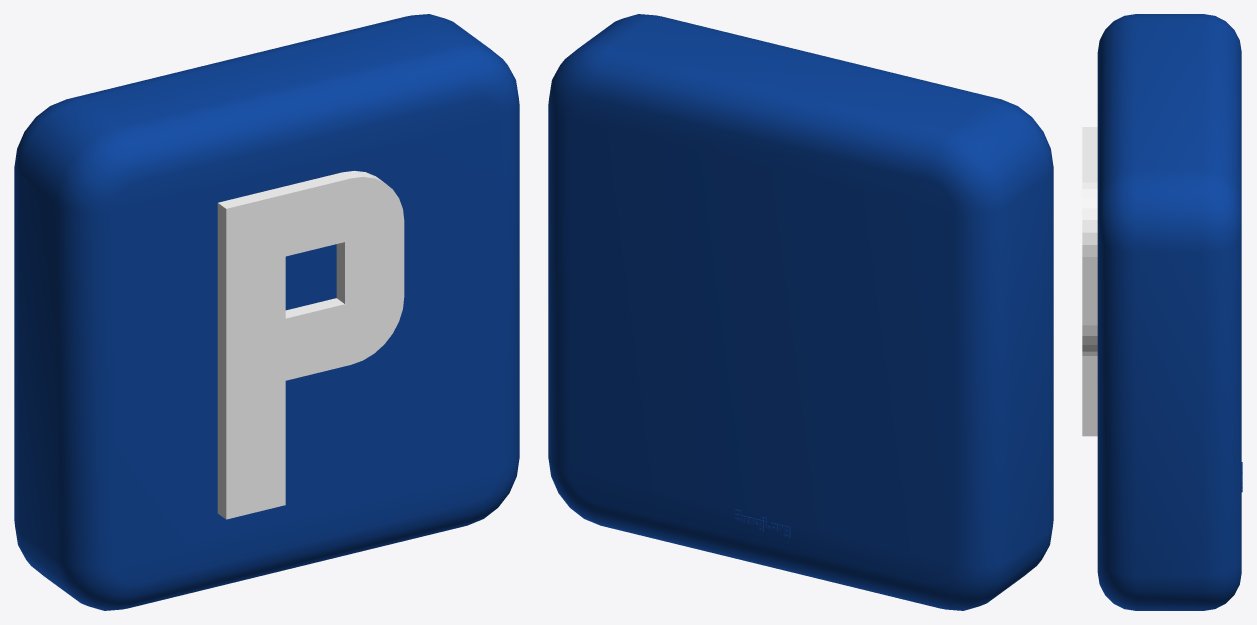
File: p_button.fbx
The picture shows the model from 3 angles, left to right: view 1: azimuth 30°, elevation 25°; view 2: azimuth 150°, elevation 25°; view 3: azimuth 270°, elevation 25°; orthographic projection. The views are drawn at different scales.
Visible parts, largest first — view 1: Cube.6647; view 2: Cube.6647; view 3: Cube.6647.
Part boxes in pixels (x1=…): Cube.6647: x1=14, y1=14, x2=519, y2=610; Cube.6647: x1=548, y1=14, x2=1053, y2=610; Cube.6647: x1=1082, y1=14, x2=1242, y2=610.
Bounding box in the file's own units: 220 × 220 × 73.37.
Materials: 1 (1 with a texture image).
